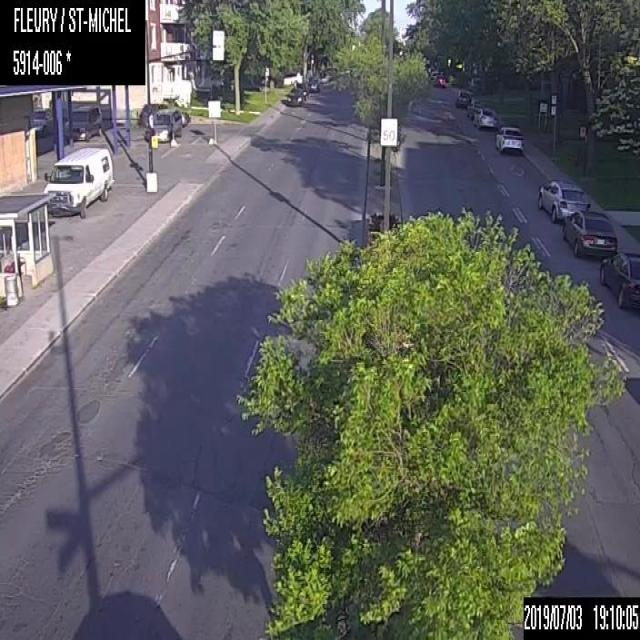vehicle: (42, 144, 116, 219), (561, 208, 618, 258), (596, 250, 638, 314), (536, 177, 591, 218), (62, 100, 102, 142), (143, 106, 182, 144), (139, 102, 190, 128), (495, 124, 524, 154), (33, 108, 54, 134), (472, 106, 498, 127), (466, 96, 482, 118), (454, 88, 471, 106), (284, 90, 303, 106), (304, 77, 318, 93)
